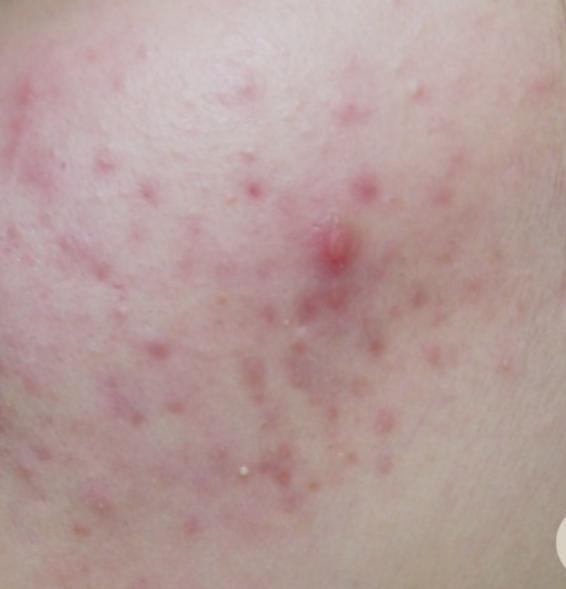papular: (306, 212, 371, 280)
whitehead: (398, 73, 453, 143), (231, 433, 263, 502), (98, 292, 136, 347), (45, 137, 79, 195)
